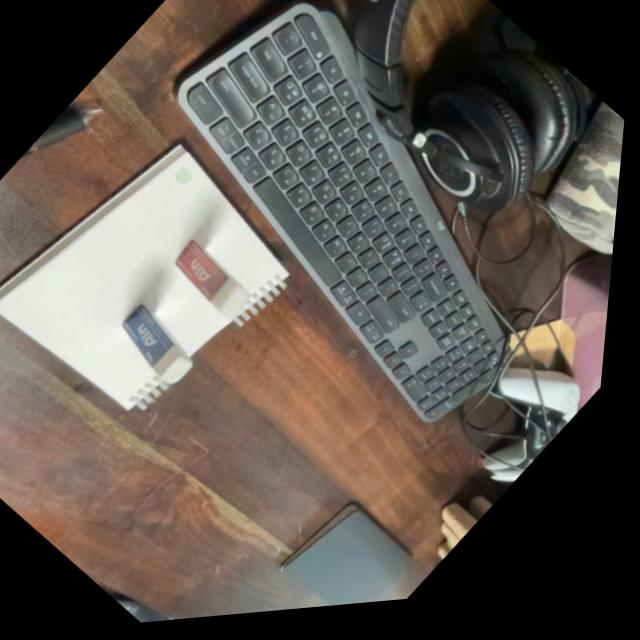blue: (108, 296, 216, 400)
red: (163, 234, 269, 335)
